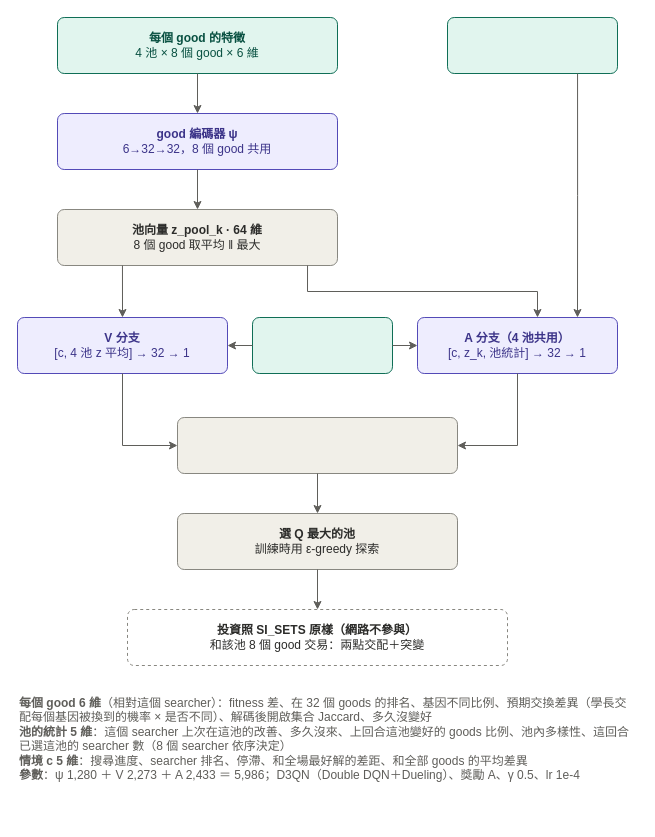
This 655x837 diagram has some shape labels left out. Here are the shapes that lost their labels. From the top down, the centre of each, then its label:
point (532, 45): 池的統計 4 池 × 5 維
point (322, 345): searcher 情境 c 進度、排名等 5 維
point (317, 445): Q(s,k) = V + A − 平均 A 4 個池各一個 Q 值
